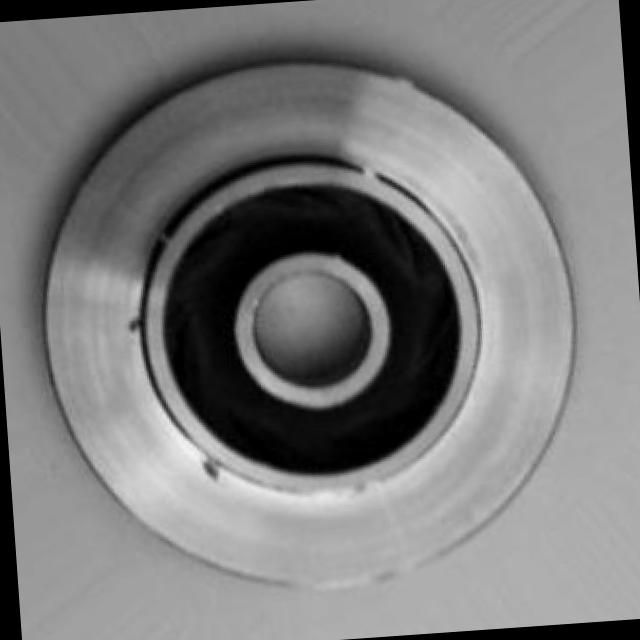Defect: (128, 313, 140, 333)
